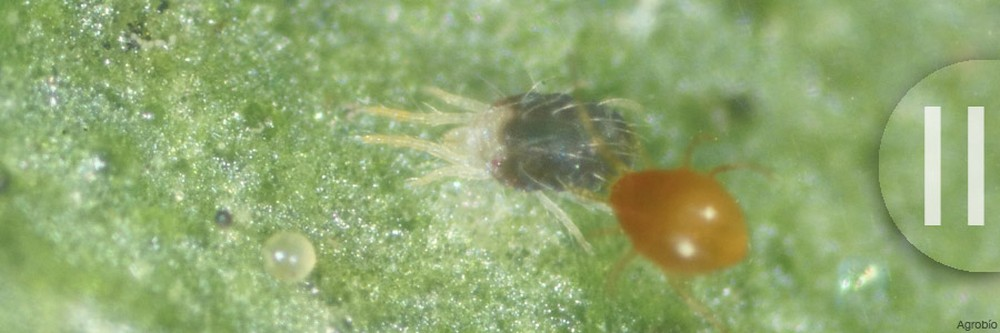Aracnido Rojo: (348, 68, 689, 247), (563, 122, 791, 312)
